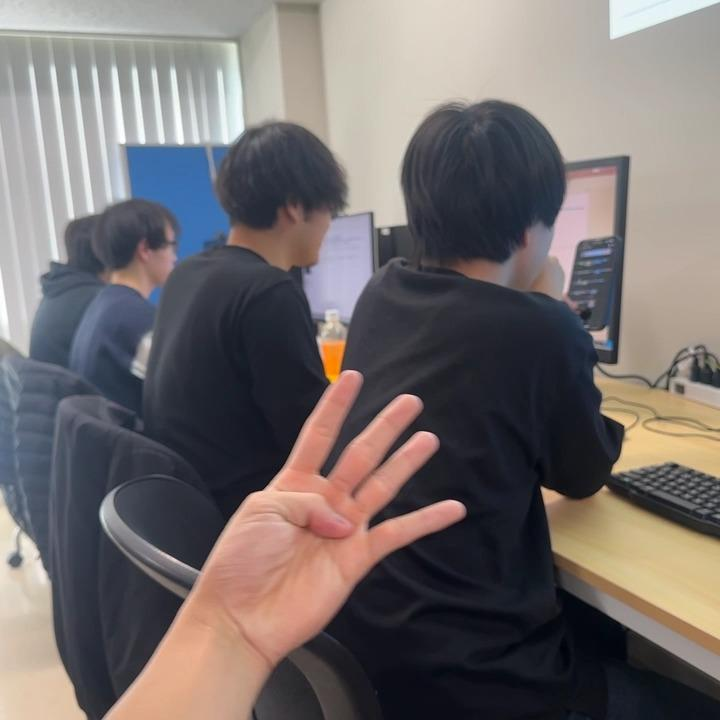without_gloves: (68, 200, 499, 626)
